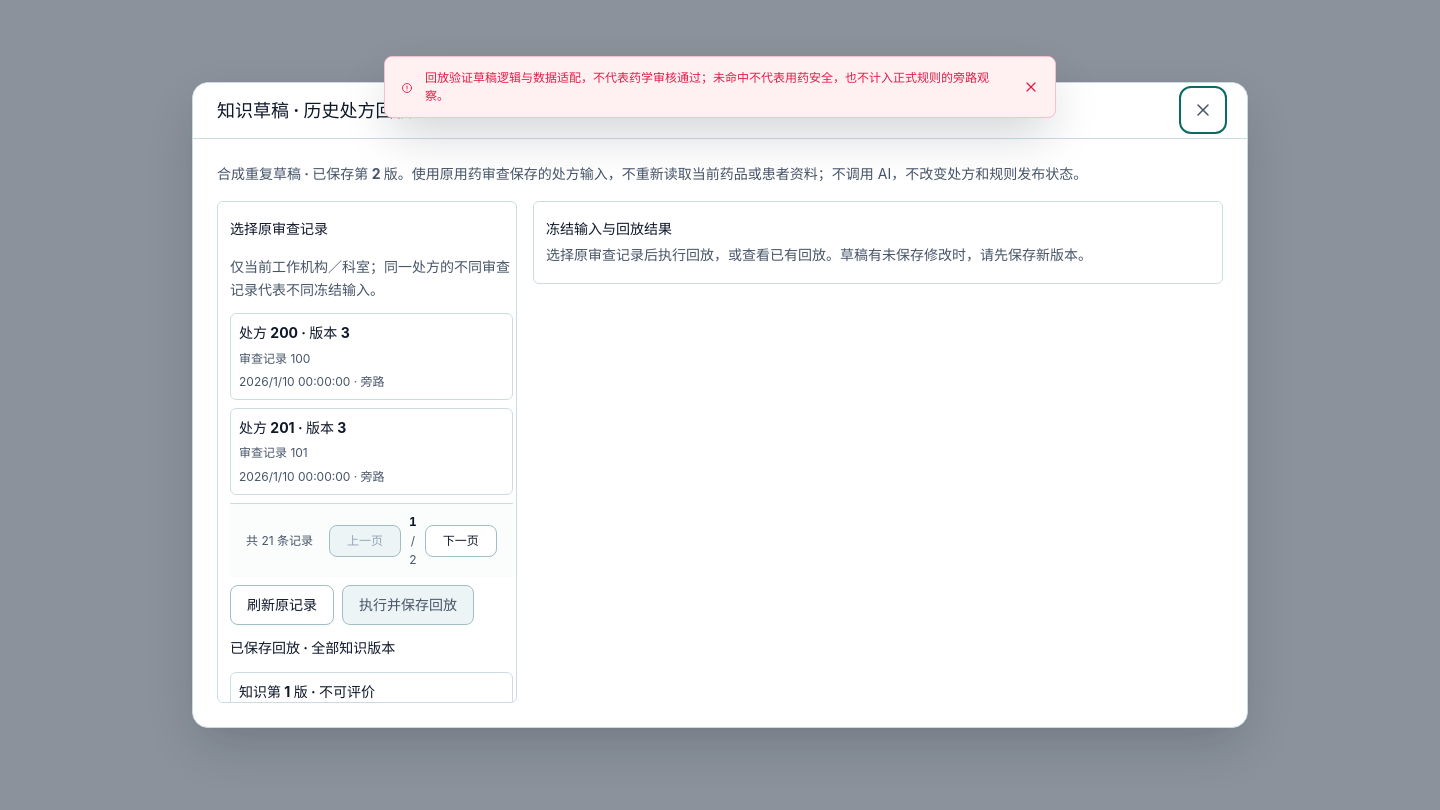
Test: clears previous output on source changes and errors rather than keeping stale matches
Click the button "处方 200 · 版本 3 审查记录 100 2026/1/10 00:00:00 · 旁路" at (255,333), box [230,313,513,400]
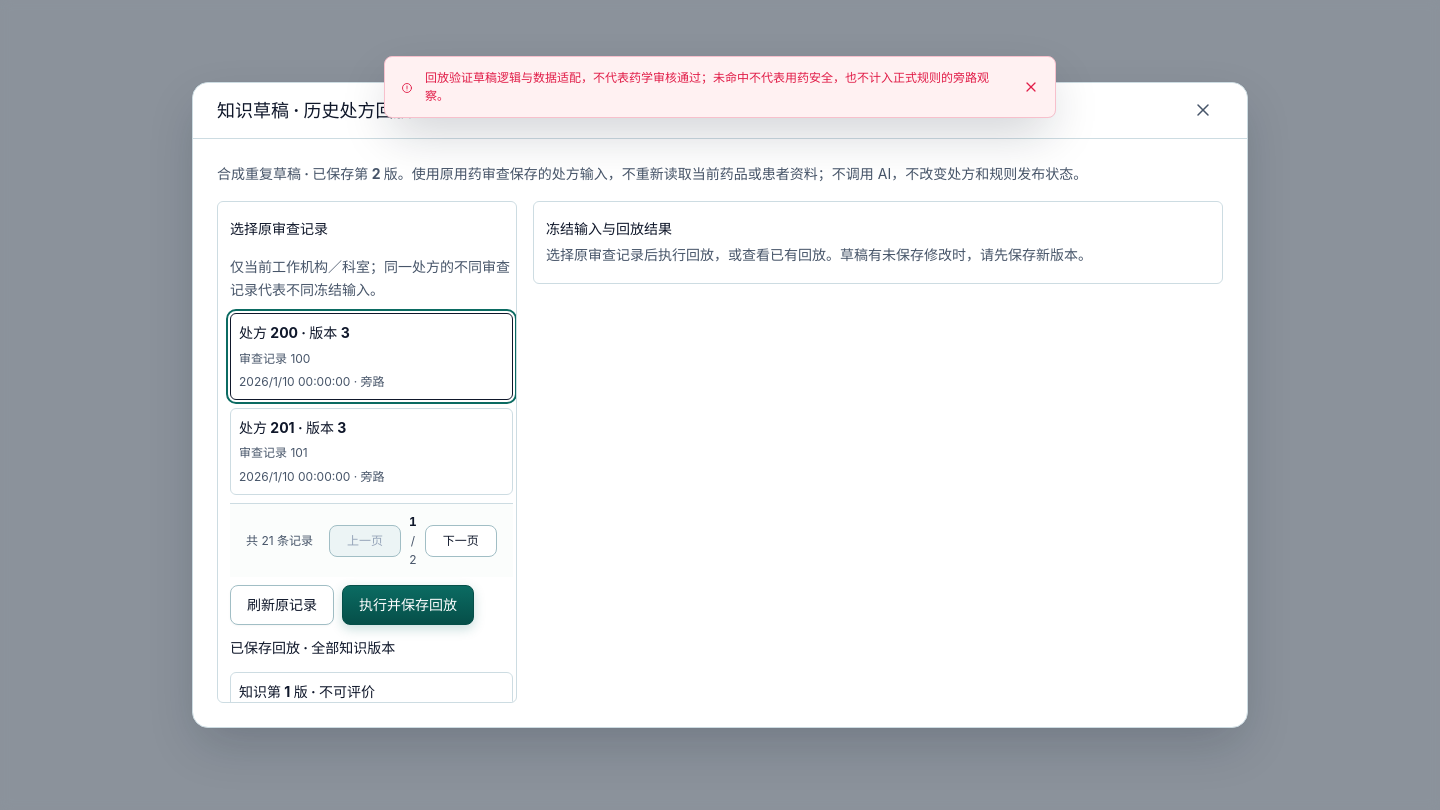
Click the button "执行并保存回放" at (408,605), box [342,585,474,625]
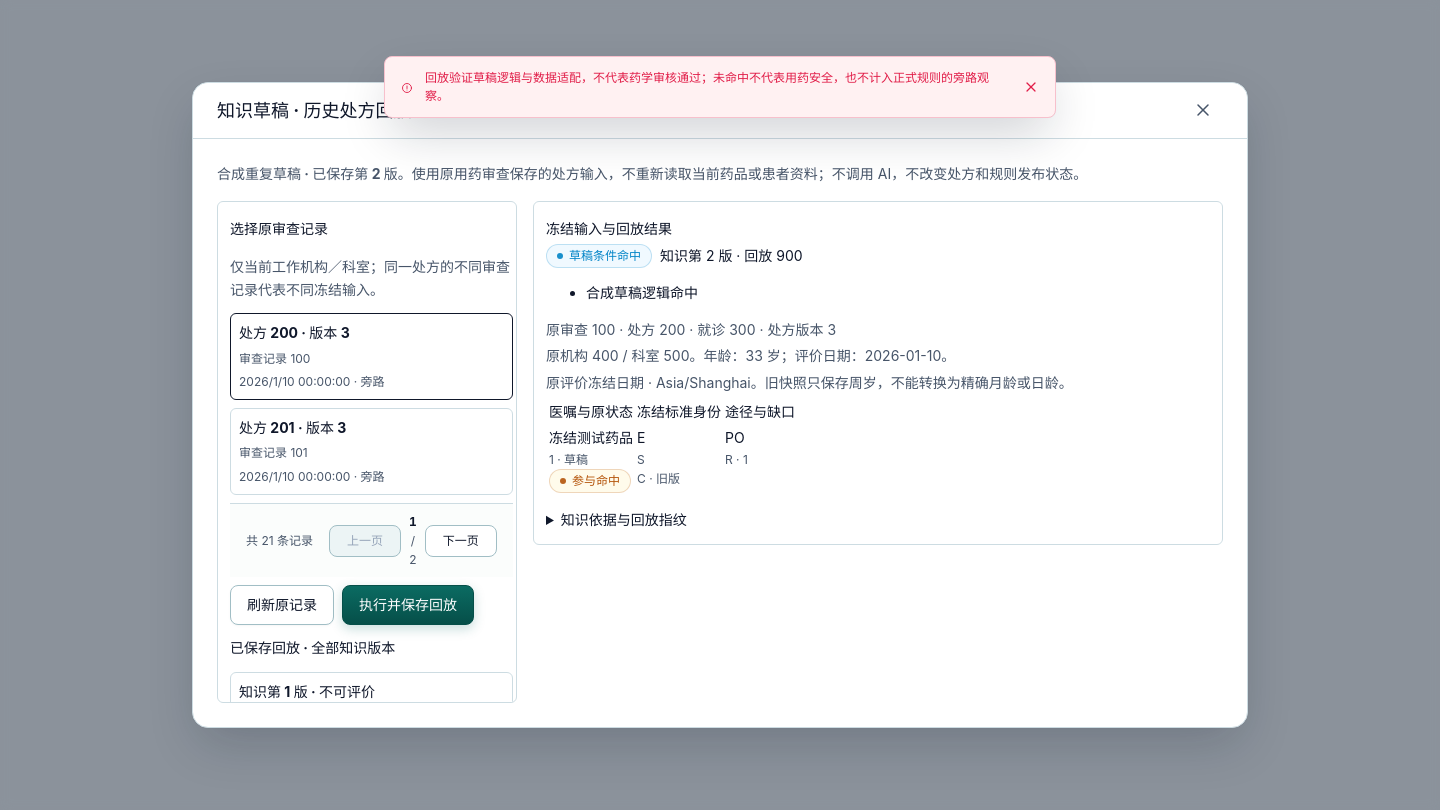
expect the text "冻结测试药品" is shown: met, box [549,429,633,446]
Click the button "处方 201 · 版本 3 审查记录 101 2026/1/10 00:00:00 · 旁路" at (255,428), box [230,408,513,495]
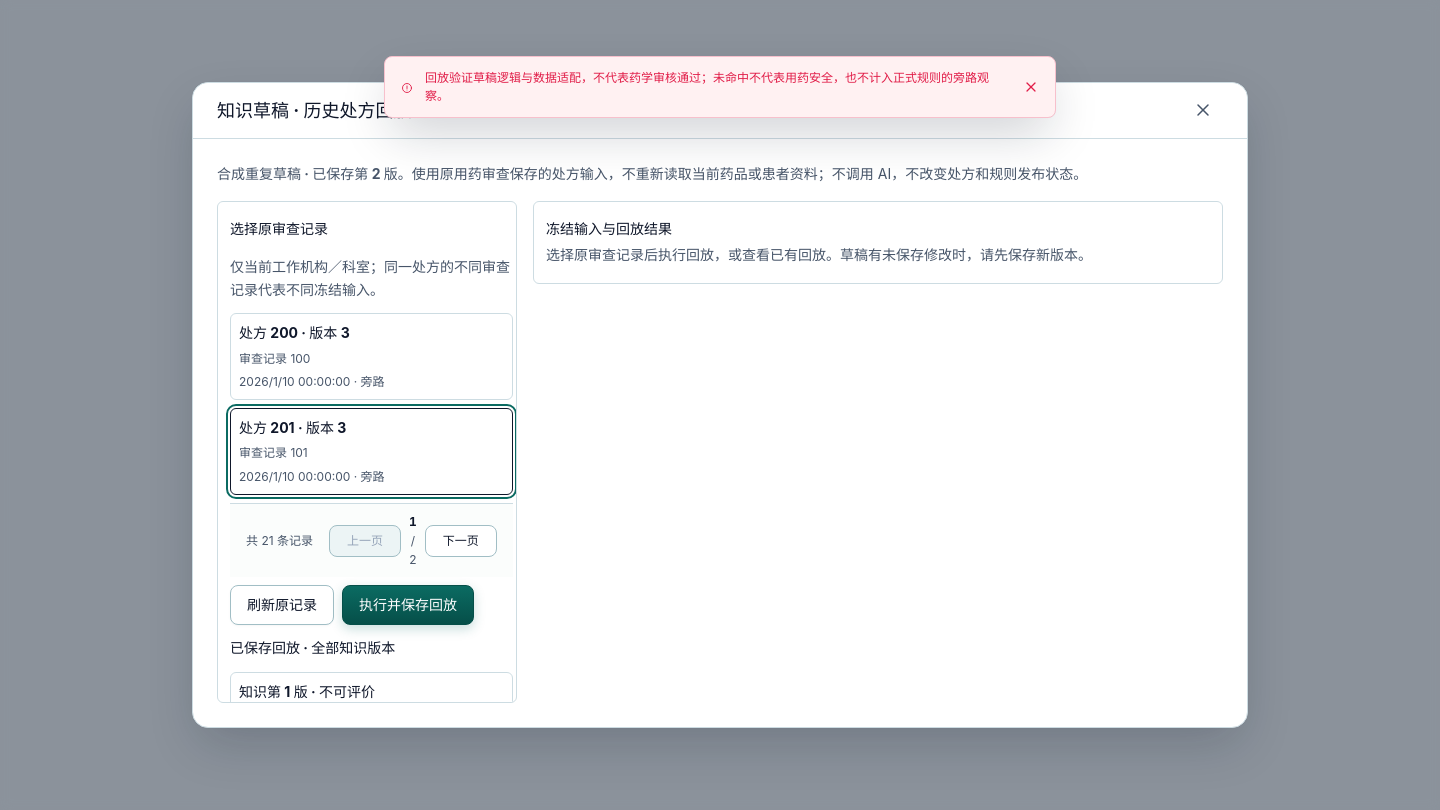
expect the text "冻结测试药品" is gone: met
Click the button "执行并保存回放" at (408,605), box [342,585,474,625]
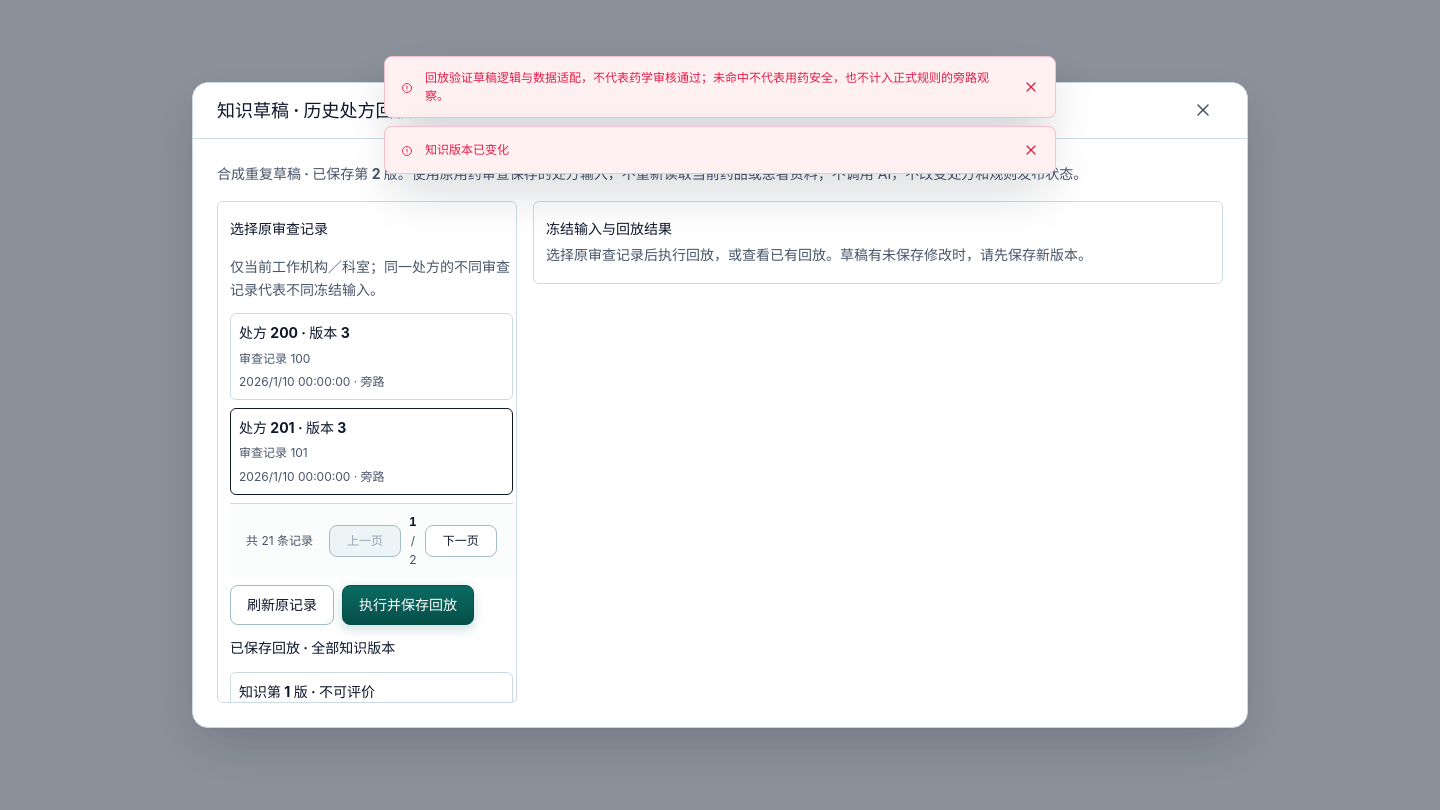
expect the text "参与命中" is not shown: met
expect the text "知识版本已变化" is shown: met, box [425,142,509,157]
